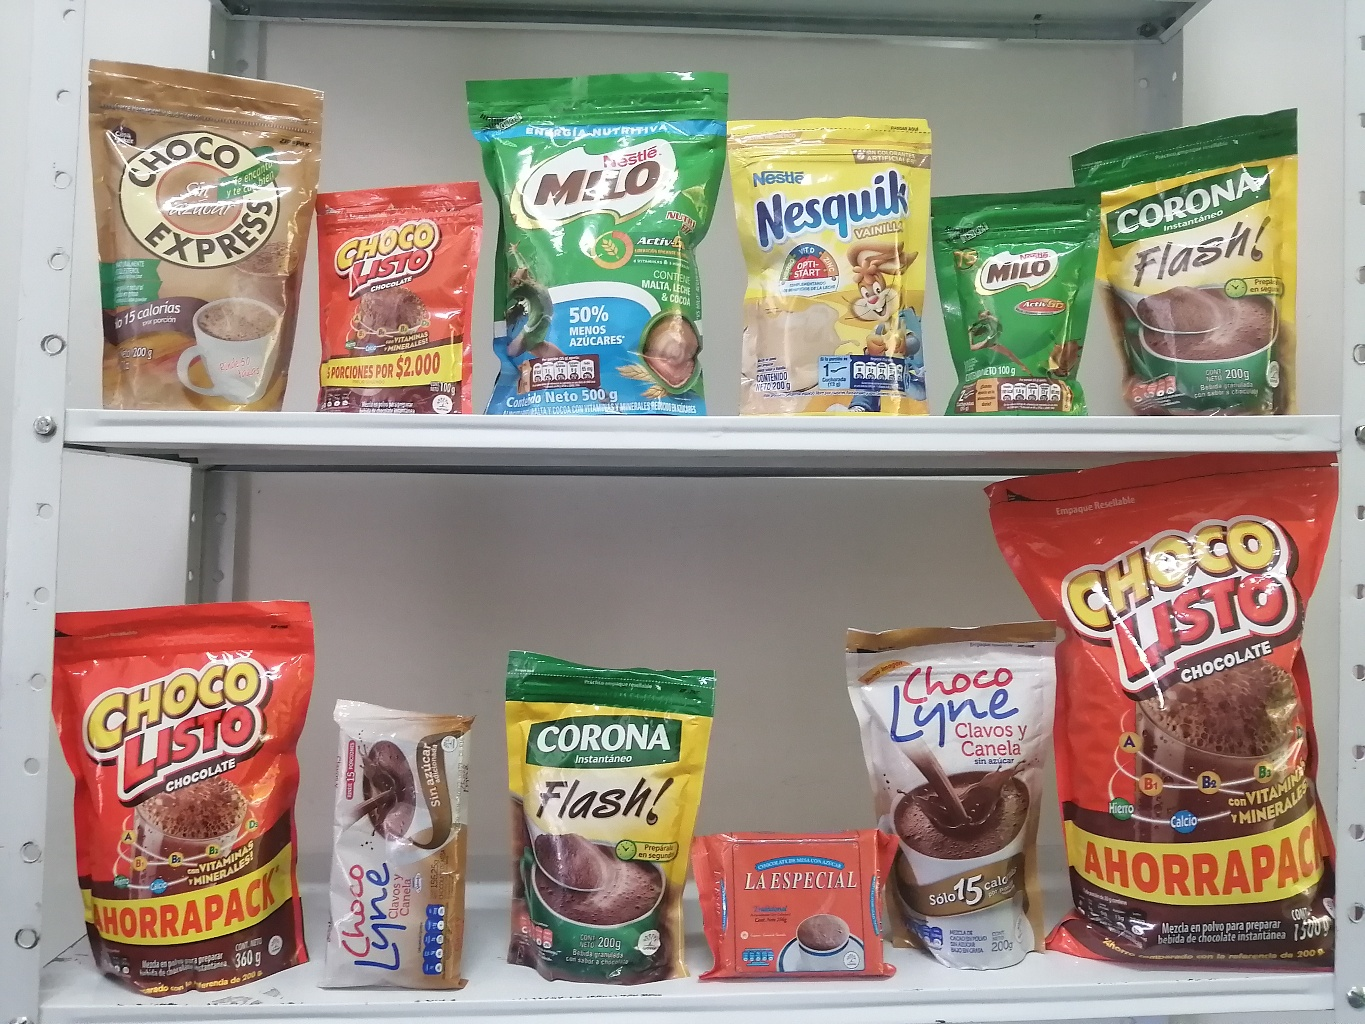COL0170103DYP1,500: (977, 440, 1347, 982)
COL0170103DYP36000: (32, 573, 318, 997)
COL0170203DYP10000: (908, 173, 1134, 431)
COL0170205DYP50000: (455, 56, 736, 418)
COL0170306DYP20000: (703, 93, 969, 423)
